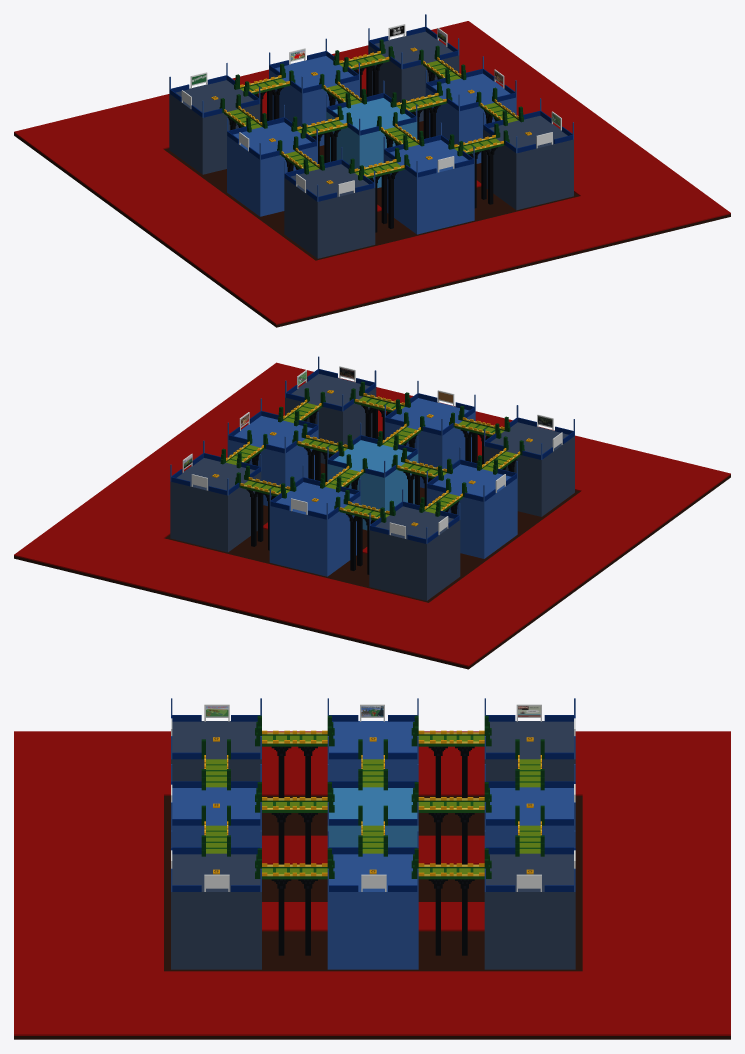
The model's file is RocketArena.glb.
The picture shows the model from 3 angles, top to bottom: view 1: azimuth 30°, elevation 25°; view 2: azimuth 150°, elevation 25°; view 3: azimuth 270°, elevation 25°; orthographic projection. The views are drawn at different scales.
Parts seen in each view (by area): view 1: mesh_id1734, mesh_id1737, mesh_id1735, mesh_id1813, mesh_id1761, mesh_id1774, mesh_id1738, mesh_id1736, mesh_id1787, mesh_id1800, mesh_id16, mesh_id1716 (+2 smaller); view 2: mesh_id1736, mesh_id1737, mesh_id1735, mesh_id1734, mesh_id1787, mesh_id16, mesh_id1716, mesh_id1738, mesh_id1813, mesh_id1800, mesh_id1761, mesh_id1729 (+2 smaller); view 3: mesh_id1735, mesh_id1734, mesh_id1736, mesh_id1738, mesh_id1737, mesh_id16, mesh_id1761, mesh_id1701, mesh_id1787, mesh_id1813, mesh_id1716, mesh_id1774 (+6 smaller).
Boxes of the visible parts, left/top/right/bottom form: mesh_id1734: left=221, top=196, right=635, bottom=324; mesh_id1737: left=14, top=109, right=315, bottom=284; mesh_id1735: left=485, top=60, right=730, bottom=236; mesh_id1813: left=284, top=164, right=375, bottom=258; mesh_id1761: left=483, top=115, right=573, bottom=210; mesh_id1774: left=383, top=140, right=474, bottom=234; mesh_id1738: left=14, top=121, right=730, bottom=327; mesh_id1736: left=108, top=21, right=522, bottom=149; mesh_id1787: left=169, top=80, right=260, bottom=174; mesh_id1800: left=227, top=122, right=317, bottom=216; mesh_id16: left=368, top=31, right=459, bottom=121; mesh_id1716: left=269, top=56, right=359, bottom=145; mesh_id1736: left=14, top=515, right=427, bottom=643; mesh_id1737: left=374, top=491, right=675, bottom=666; mesh_id1735: left=69, top=362, right=353, bottom=538; mesh_id1734: left=376, top=387, right=730, bottom=514; mesh_id1787: left=369, top=506, right=460, bottom=600; mesh_id16: left=170, top=458, right=261, bottom=552; mesh_id1716: left=269, top=482, right=360, bottom=576; mesh_id1738: left=14, top=463, right=730, bottom=669; mesh_id1813: left=484, top=422, right=574, bottom=516; mesh_id1800: left=426, top=464, right=517, bottom=558; mesh_id1761: left=285, top=374, right=376, bottom=463; mesh_id1729: left=327, top=440, right=418, bottom=530; mesh_id1735: left=14, top=971, right=582, bottom=1035; mesh_id1734: left=14, top=731, right=163, bottom=971; mesh_id1736: left=582, top=794, right=730, bottom=1035; mesh_id1738: left=14, top=795, right=730, bottom=1039; mesh_id1737: left=164, top=731, right=730, bottom=795; mesh_id16: left=484, top=853, right=575, bottom=969; mesh_id1761: left=171, top=853, right=261, bottom=969; mesh_id1701: left=327, top=853, right=418, bottom=969; mesh_id1787: left=484, top=721, right=575, bottom=781; mesh_id1813: left=171, top=721, right=261, bottom=781; mesh_id1716: left=484, top=787, right=575, bottom=847; mesh_id1774: left=171, top=787, right=261, bottom=847.
Bounding box in the file's own units: 0.512 × 0.0822 × 0.512.
1810 materials, 1810 textured.
